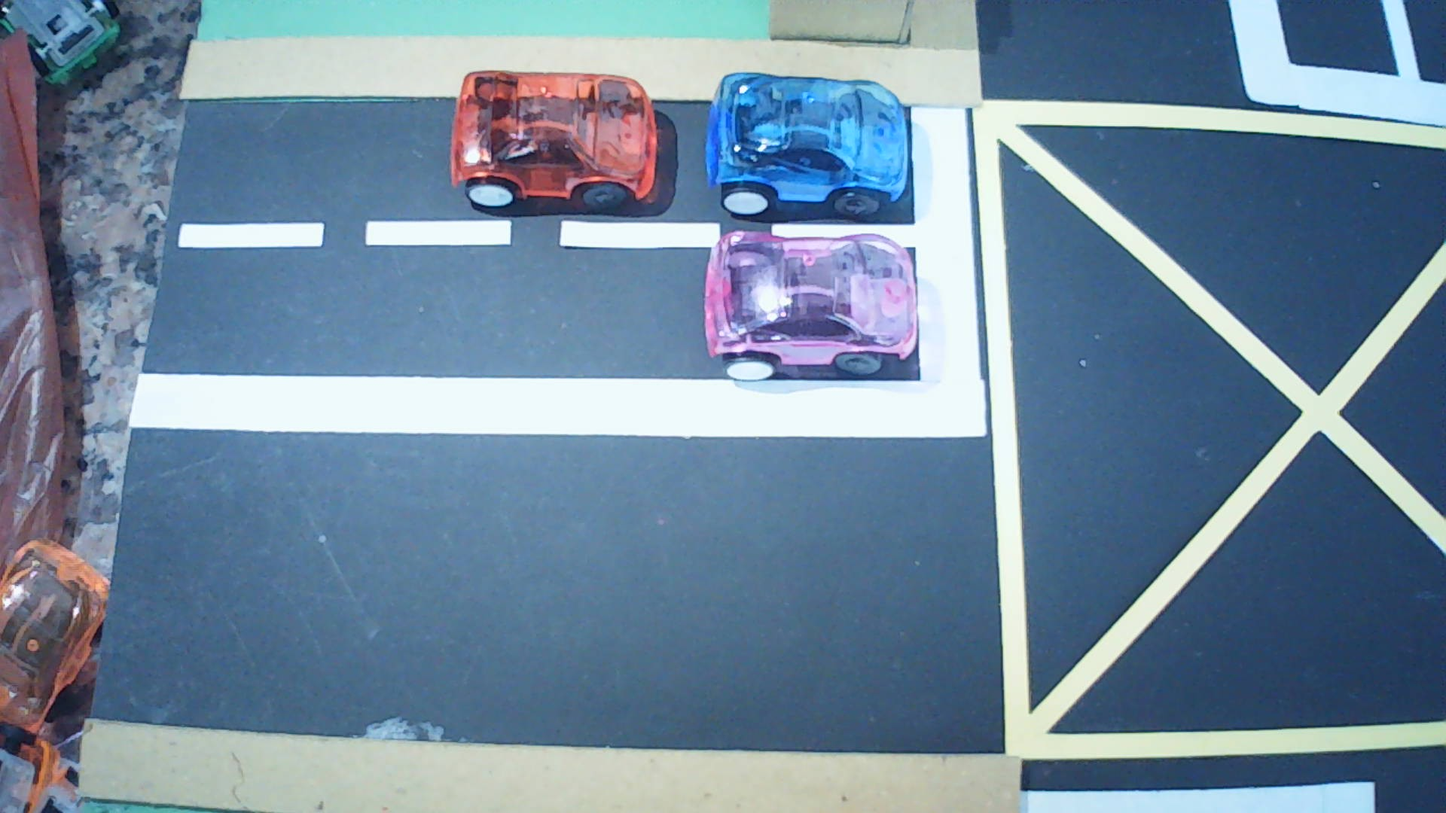Mobil biru: (703, 73, 911, 220)
Mobil merah: (450, 72, 657, 212)
Mobil ungu: (704, 231, 918, 379)
